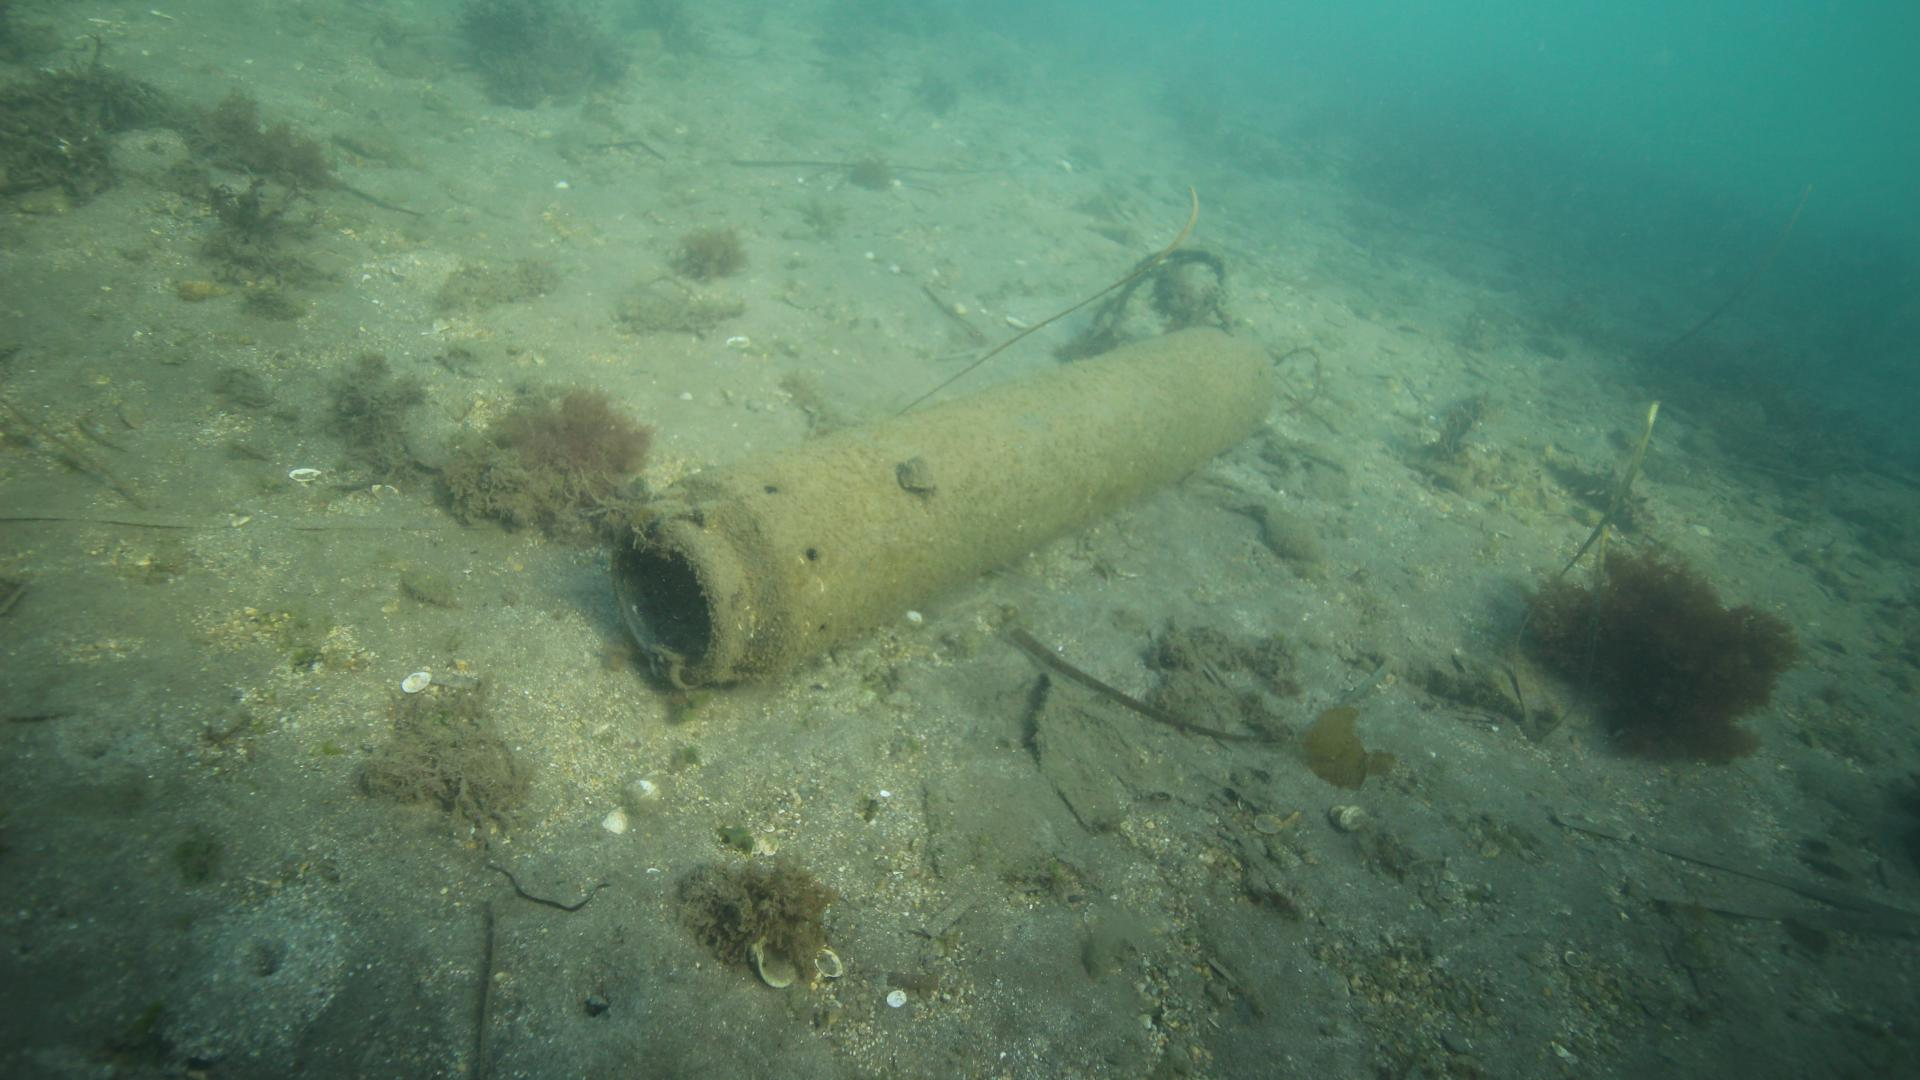eel fish trap: (608, 324, 1276, 698)
